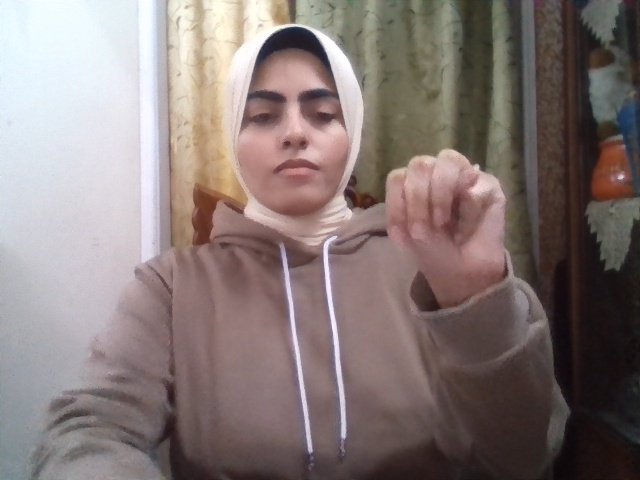M: (384, 149, 506, 289)
